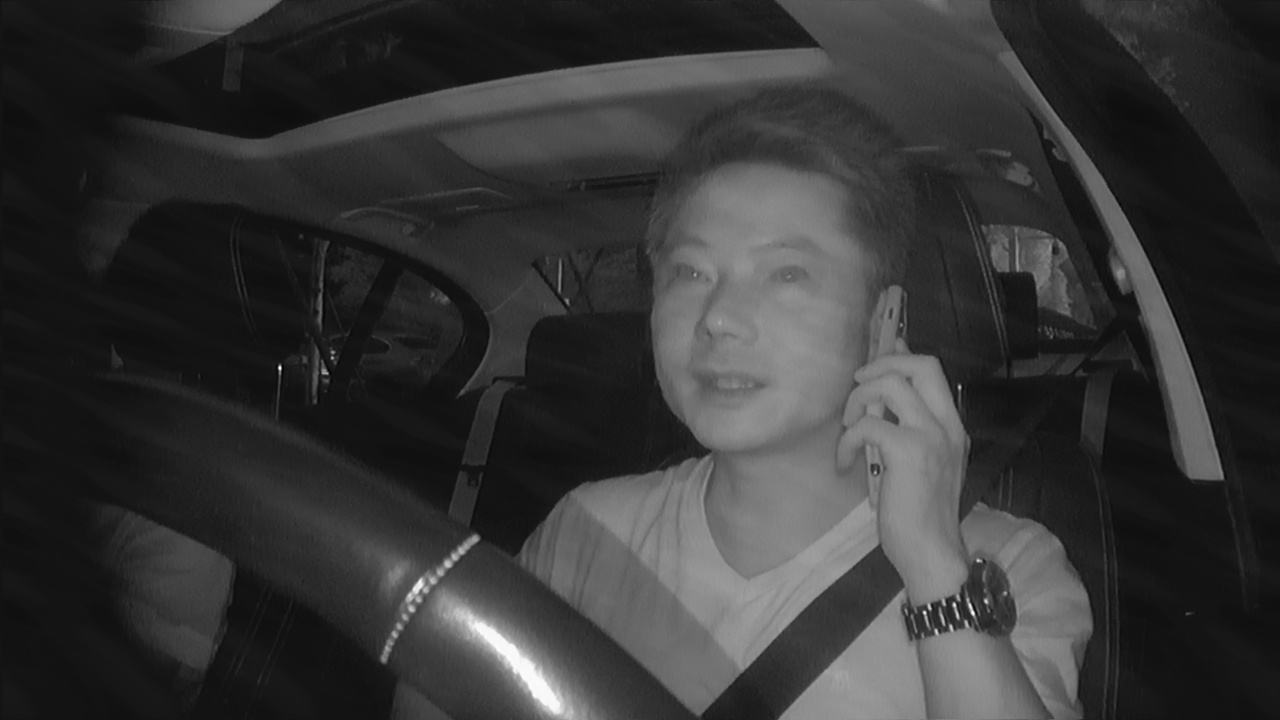hand: (842, 354, 975, 561)
